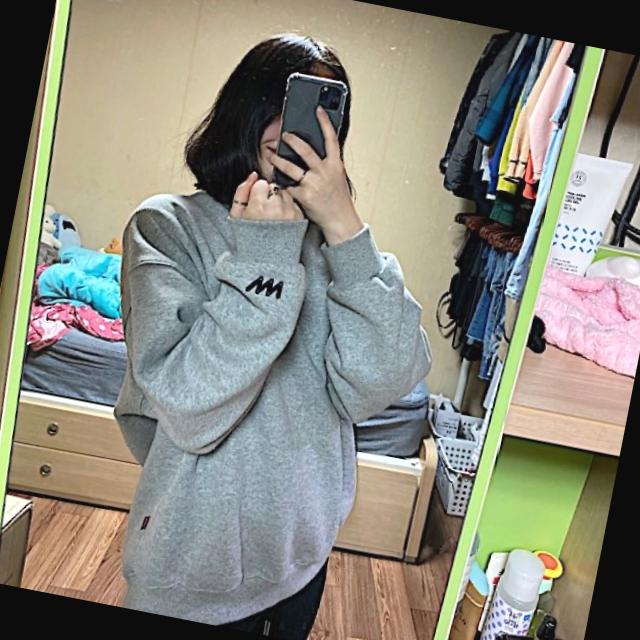mtm: (53, 170, 460, 640)
